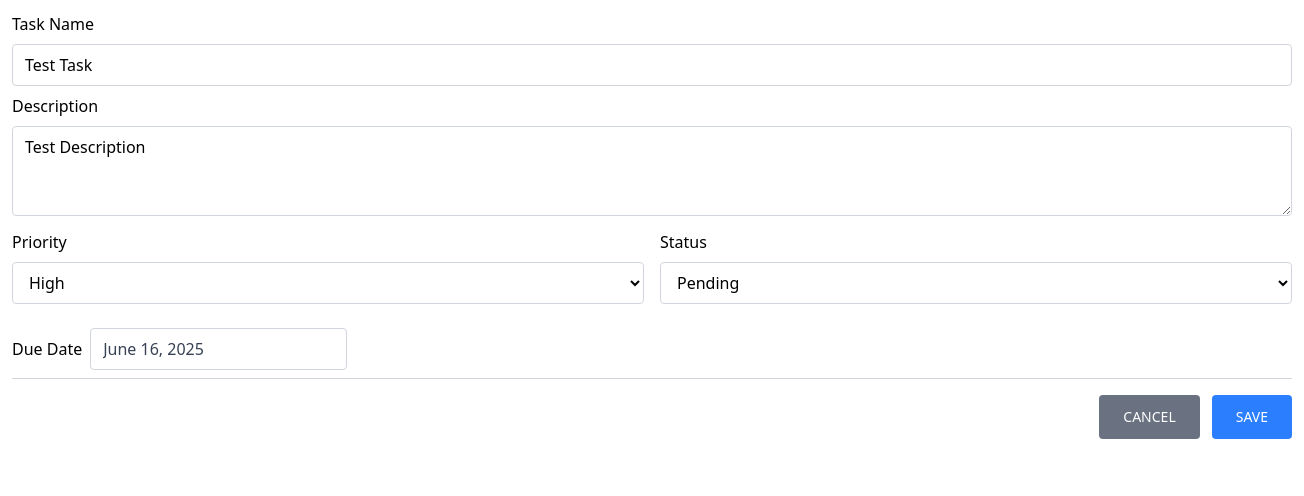
TaskForm in Edit Mode › displays validation error when submitting with empty task name
Clear the field labelled "Task Name" at (652, 65), box [12, 44, 1292, 86]
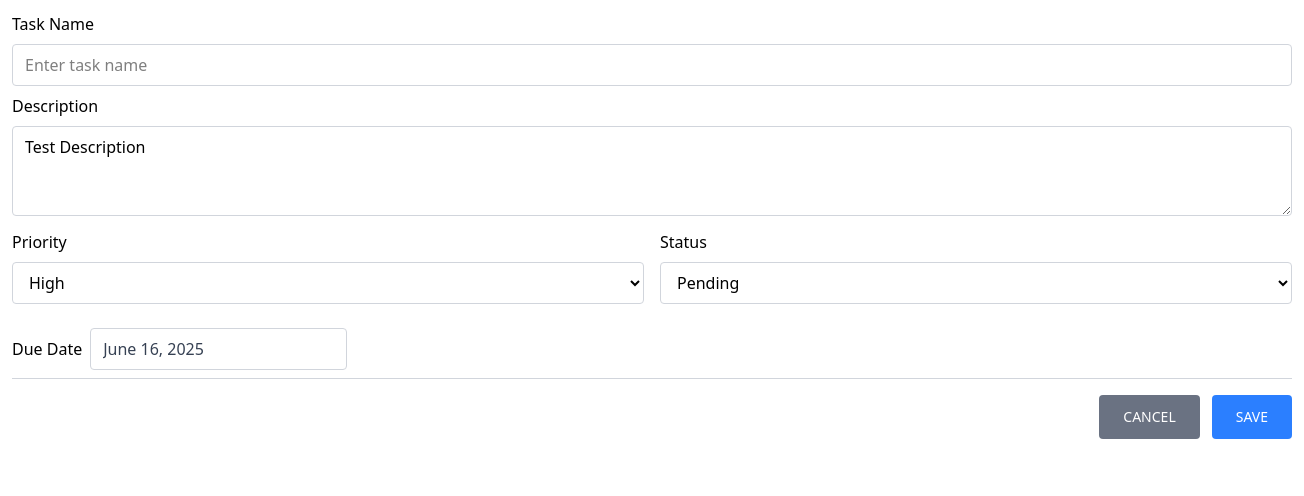
Click the button "Save".
click(1252, 417)  # box [1212, 395, 1292, 439]
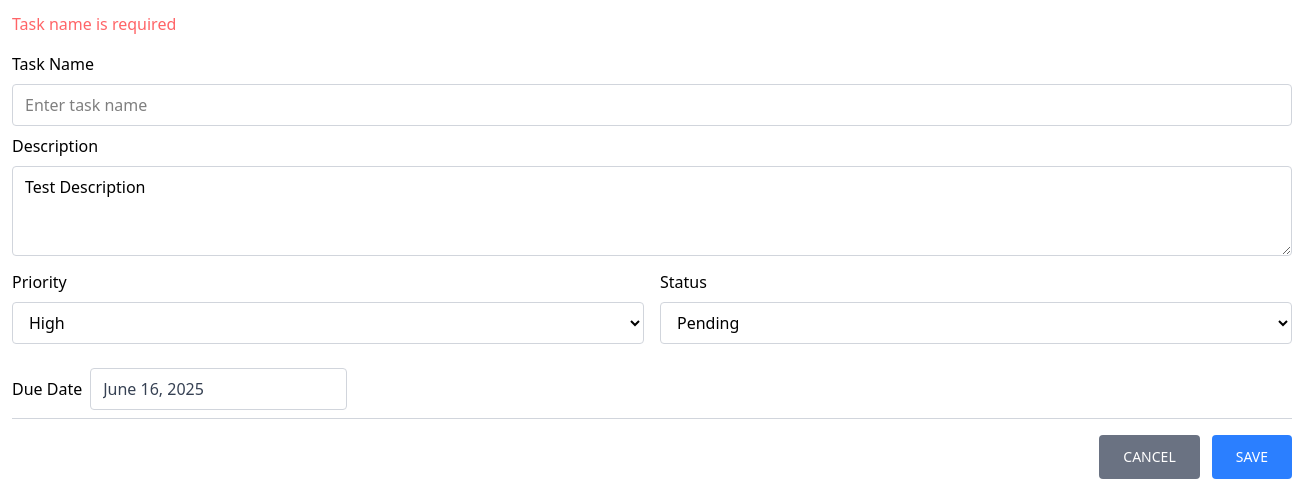
Expected: the text "Task name is required" is shown, [12, 13, 176, 35]
